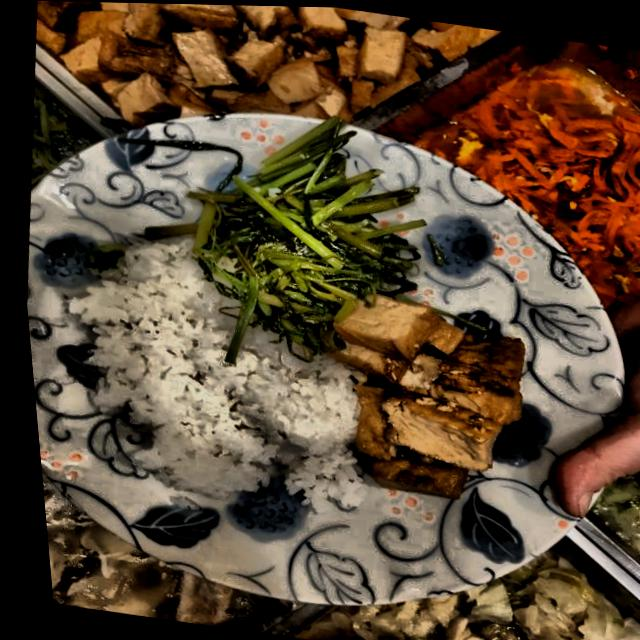Food: (79, 291, 350, 489), (207, 165, 381, 300), (486, 92, 640, 230), (444, 593, 629, 640)
